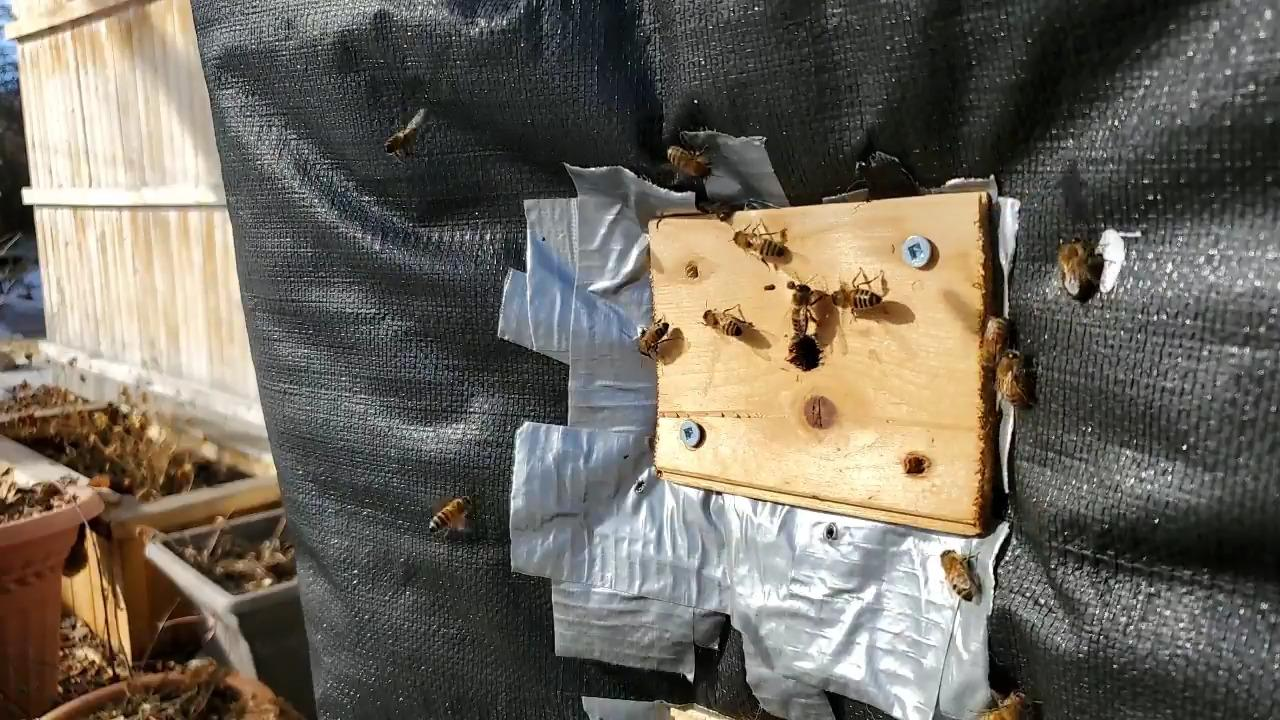bee: (1059, 234, 1091, 297), (973, 317, 1013, 366), (427, 496, 470, 535), (697, 309, 749, 339), (943, 550, 972, 602), (734, 233, 789, 258), (670, 148, 715, 178), (790, 284, 813, 337), (637, 317, 667, 357), (1003, 354, 1025, 408), (989, 694, 1034, 720), (834, 290, 883, 307), (383, 129, 412, 153)
